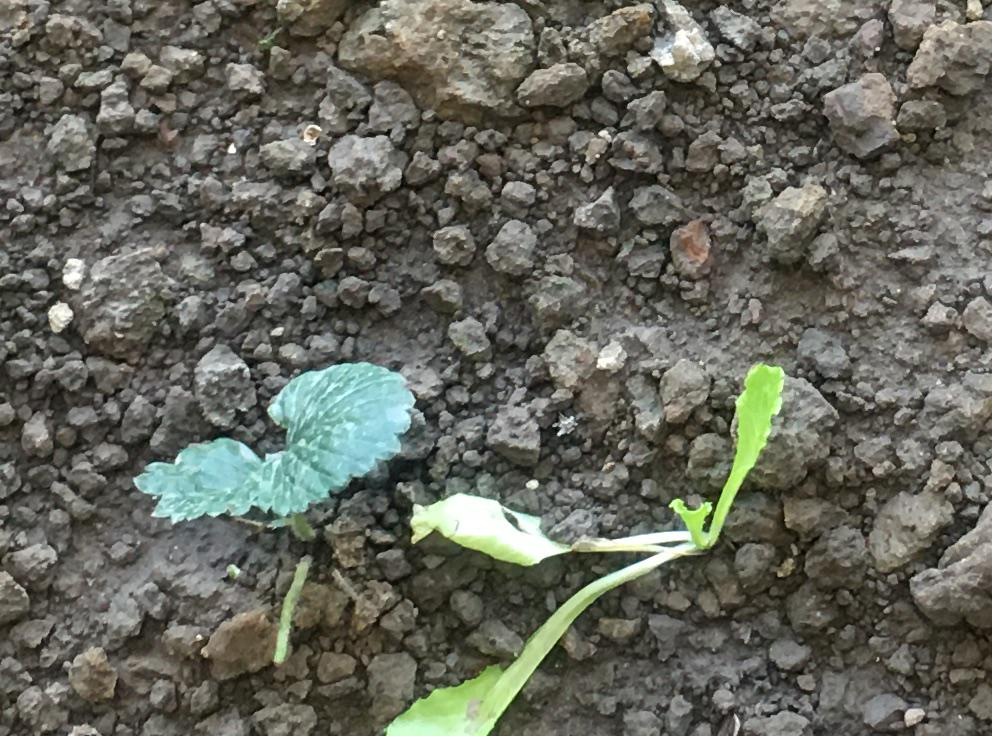block: (338, 1, 531, 125)
